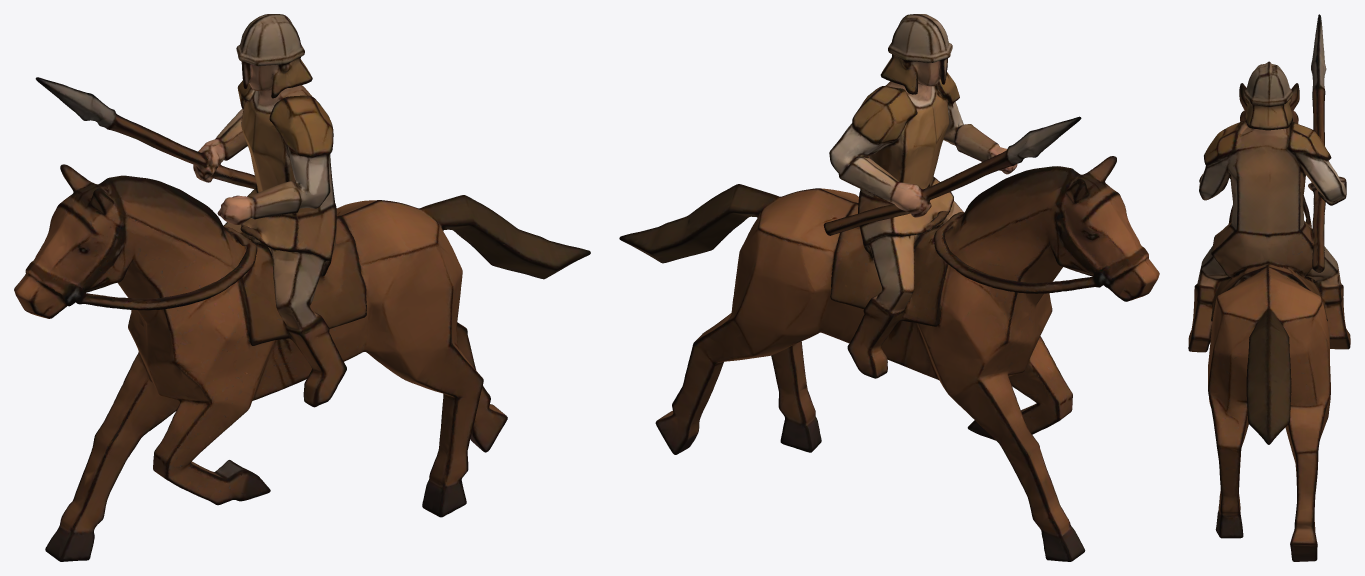
Rendered from horseman.glb.
3 renders of one model, left to right at view 1: azimuth 30°, elevation 25°; view 2: azimuth 150°, elevation 25°; view 3: azimuth 270°, elevation 25°, orthographic. The views are drawn at different scales.
Visible parts, largest first — view 1: world; view 2: world; view 3: world.
Boxes of the visible parts, x1,y1,x2,y2 form: world: [14, 14, 590, 561]; world: [619, 14, 1159, 561]; world: [1188, 14, 1350, 561].
Bounding box in the file's own units: 1 × 0.8612 × 0.3037.
1 material, 1 textured.
